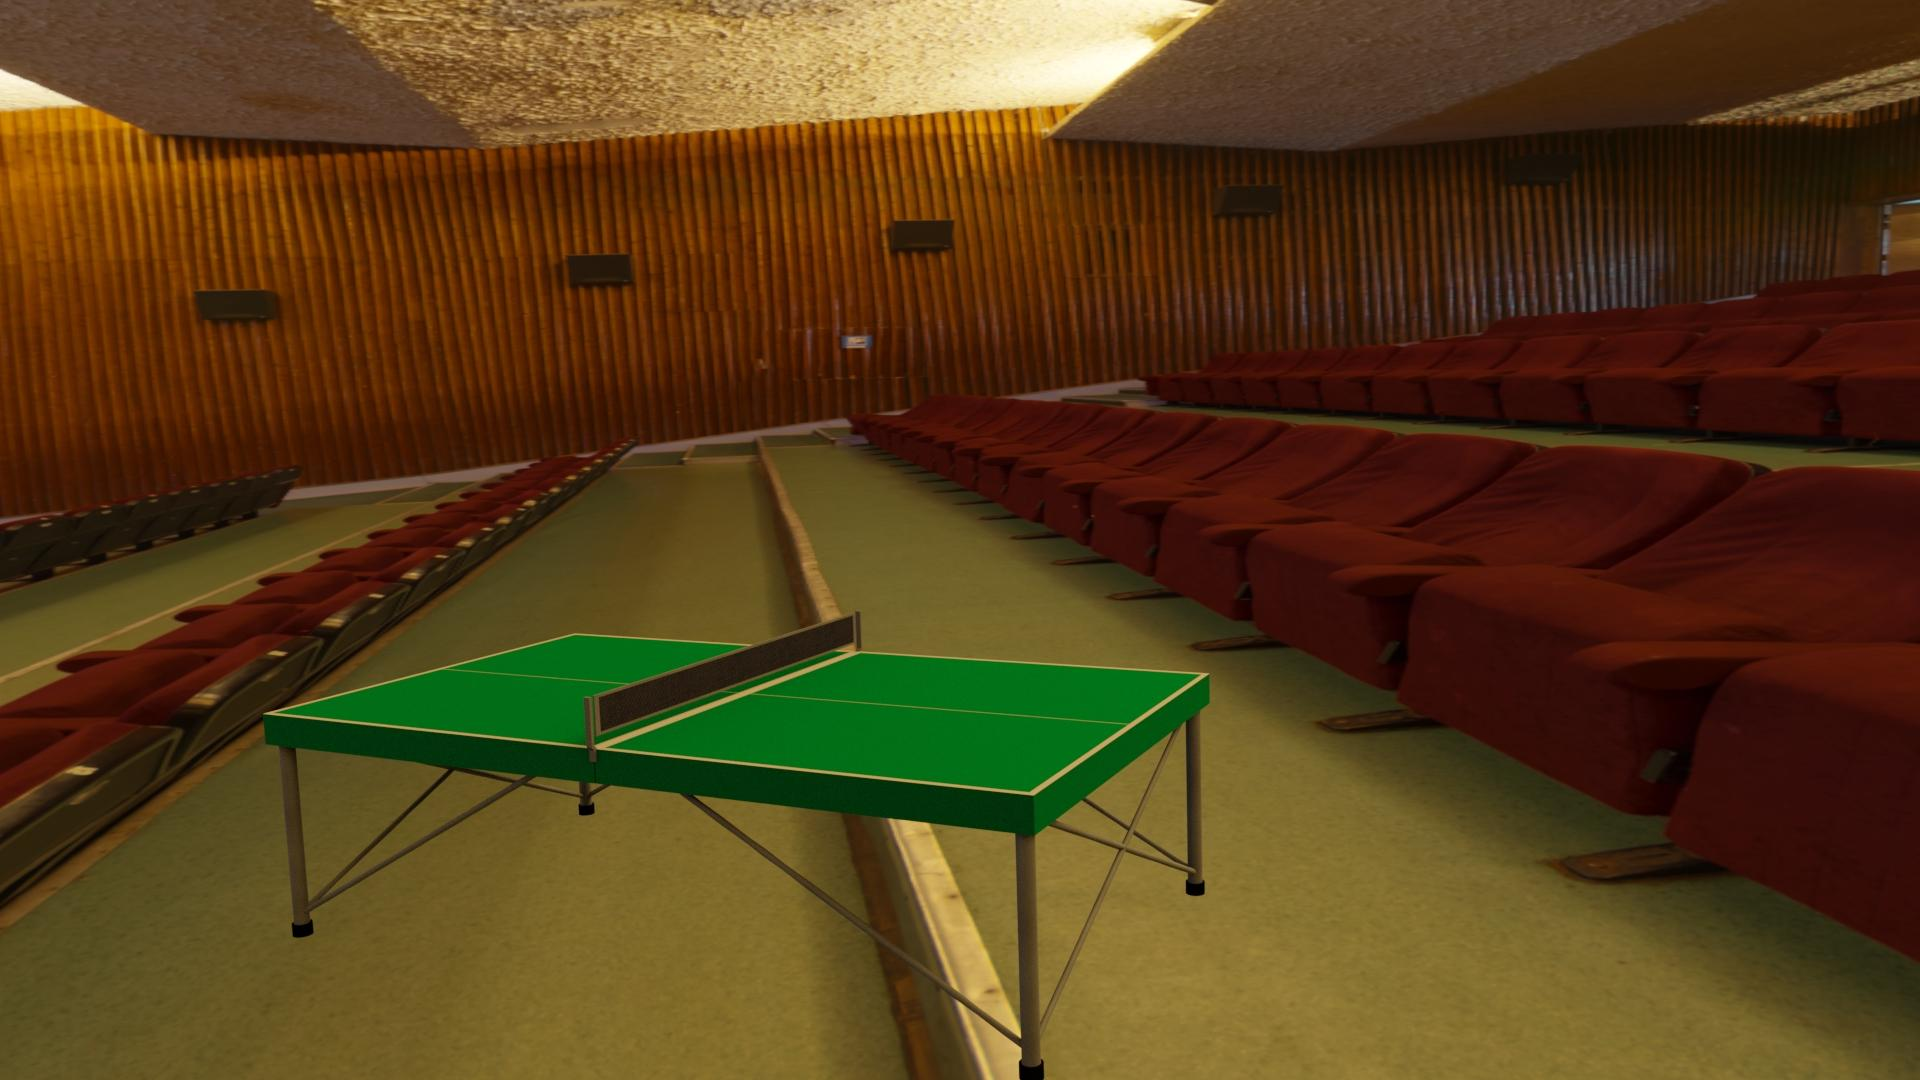table: (272, 634, 1203, 793)
